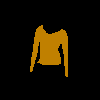maglia: (30, 24, 68, 77)
